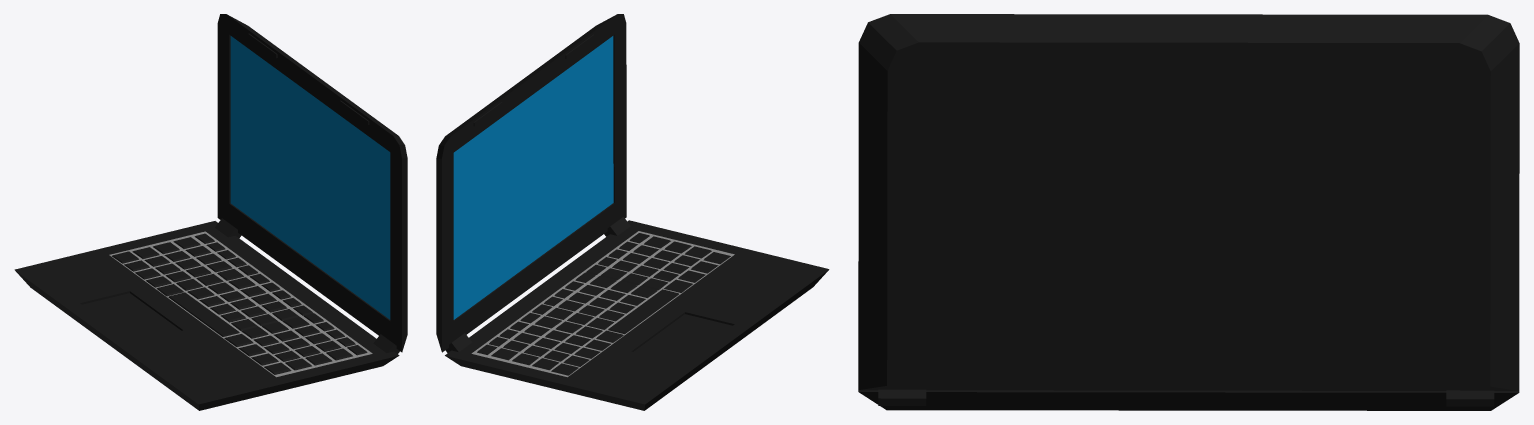
The model's file is Laptop.gltf.
The picture shows the model from 3 angles, left to right: view 1: azimuth 30°, elevation 25°; view 2: azimuth 150°, elevation 25°; view 3: azimuth 270°, elevation 25°; orthographic projection. The views are drawn at different scales.
Visible parts, largest first — view 1: node-0; view 2: node-0; view 3: node-0.
Boxes of the visible parts, x1,y1,x2,y2 form: node-0: (14, 14, 407, 410); node-0: (436, 14, 829, 410); node-0: (858, 14, 1519, 410).
Bounding box in the file's own units: 0.4103 × 0.4098 × 0.6042.
